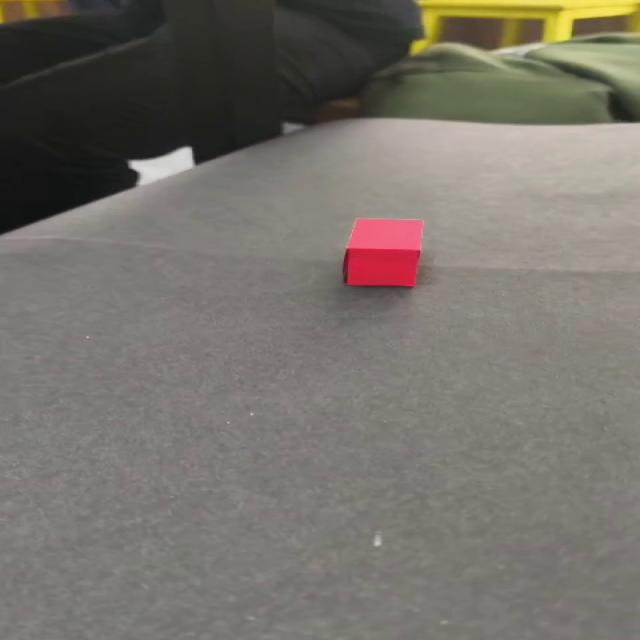red block: (341, 217, 424, 287)
